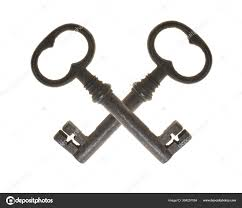key: (29, 20, 214, 168), (50, 14, 219, 165)
